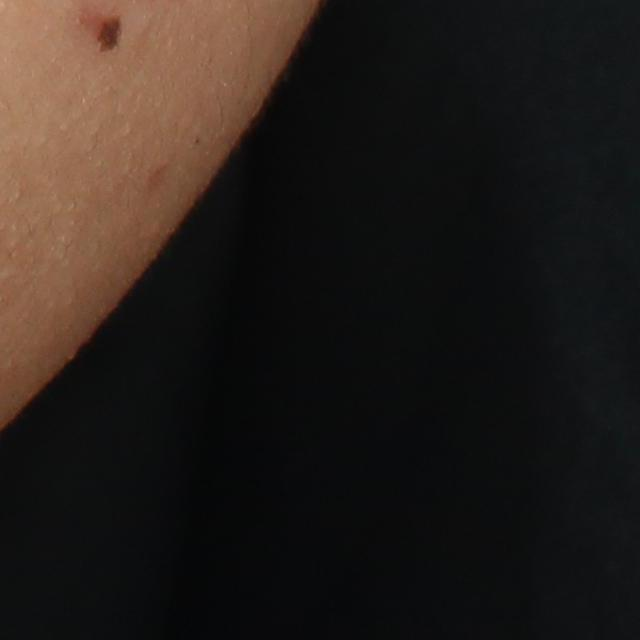nevus: (92, 13, 123, 58)
